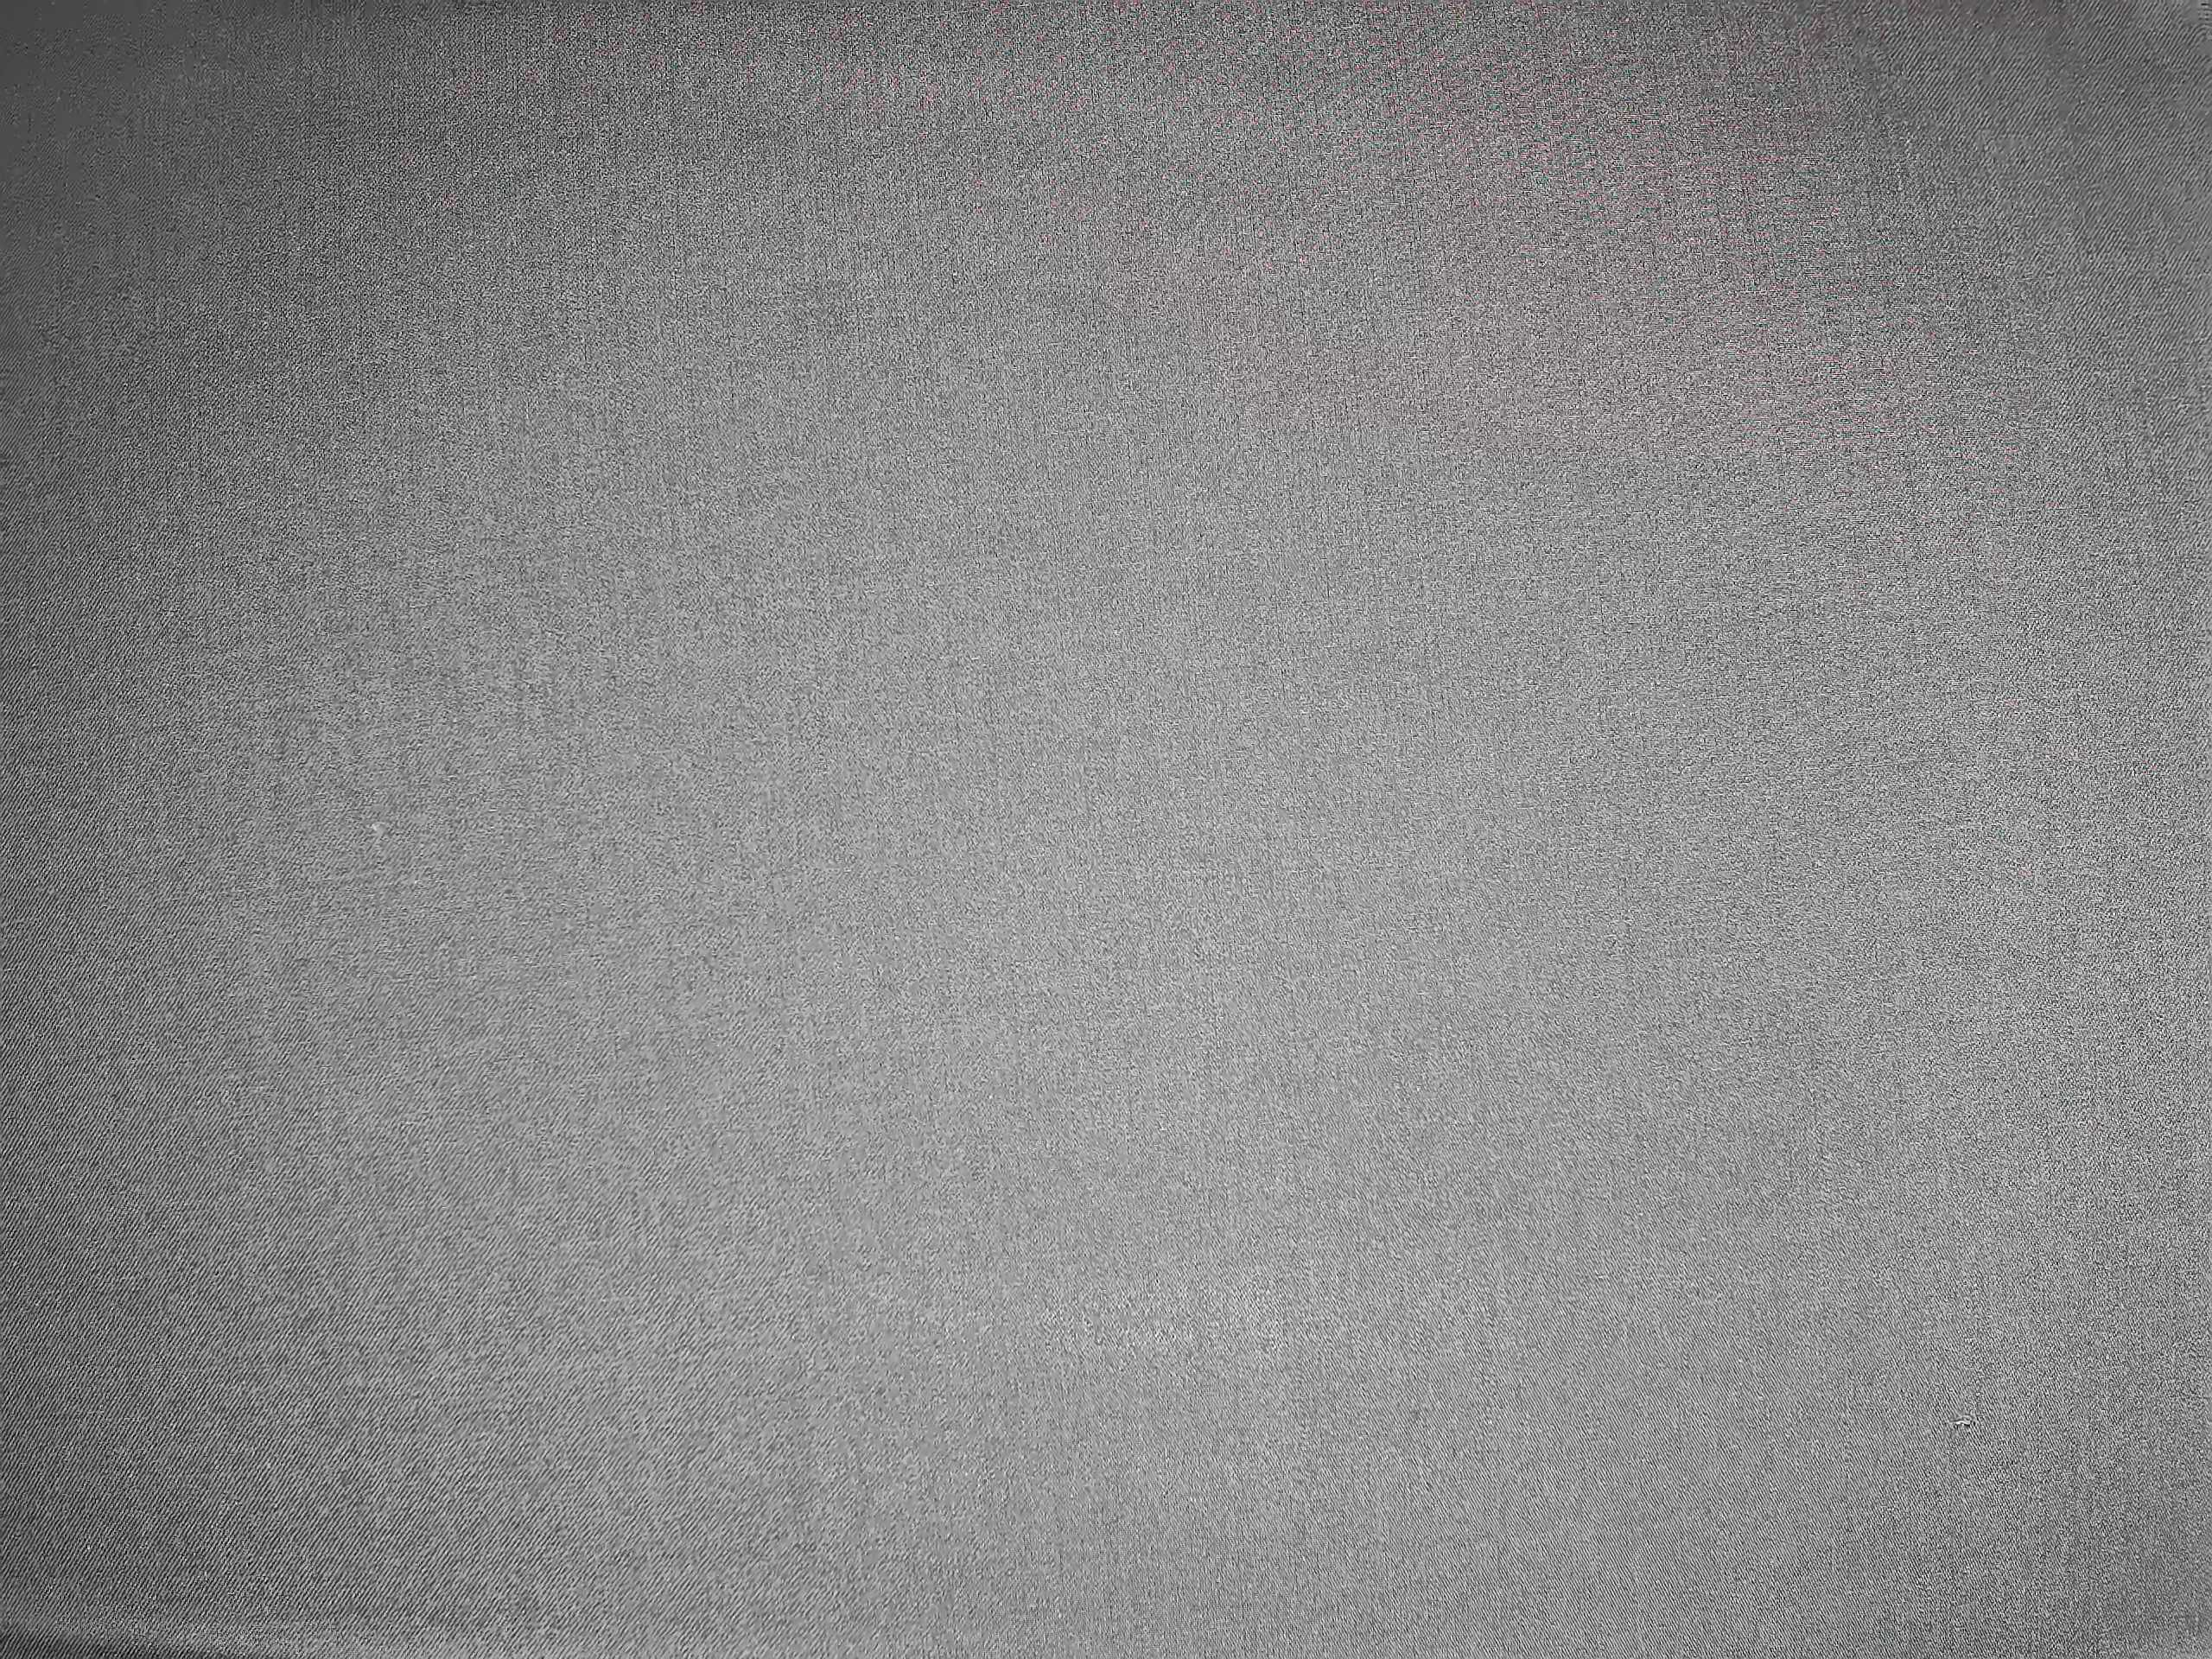rubbing-hole: (780, 272, 867, 342), (1944, 1406, 1982, 1441)
